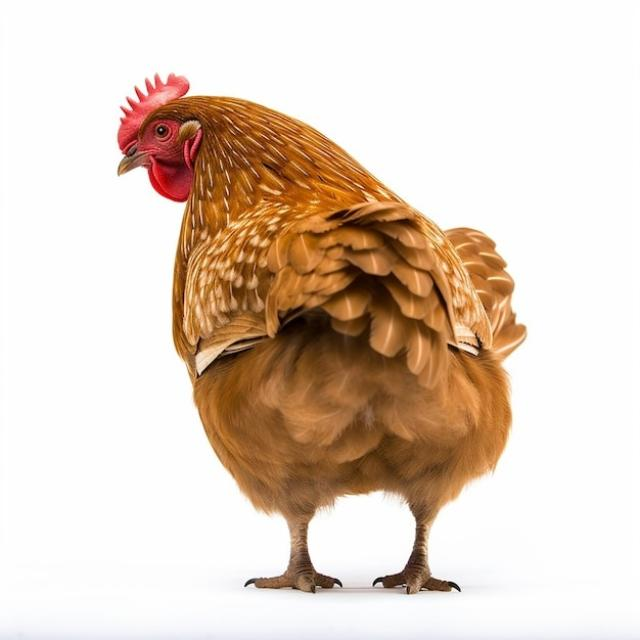Chicken: (116, 71, 527, 595)
